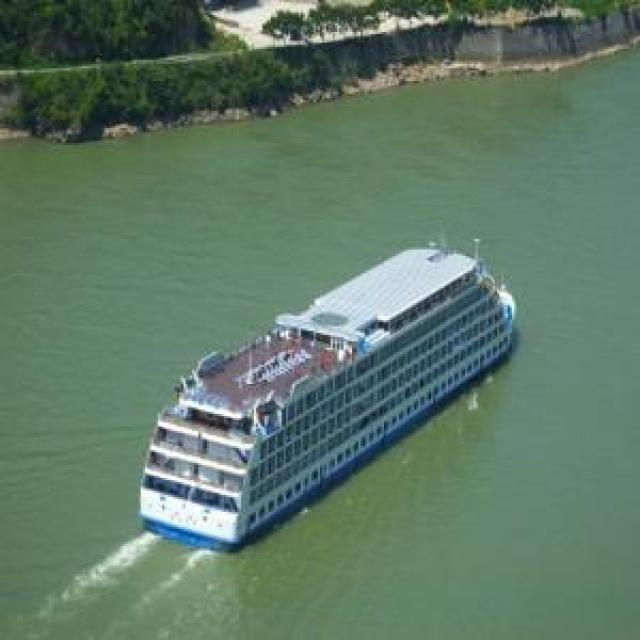passenger ship: (135, 232, 518, 550)
